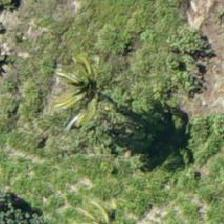coconut_tree: (38, 40, 128, 130)
